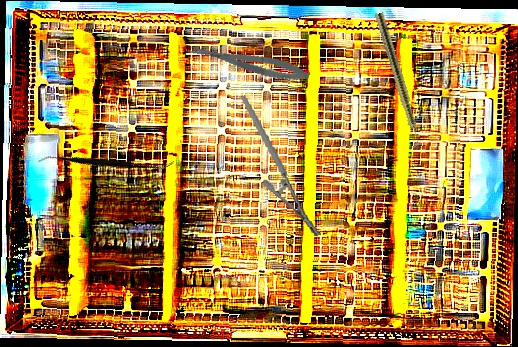Handpiece: (372, 11, 426, 152)
Micro Scissor: (184, 36, 312, 87)
Needle Holder: (240, 86, 322, 245)
Spatula Surgical: (37, 103, 175, 220)
